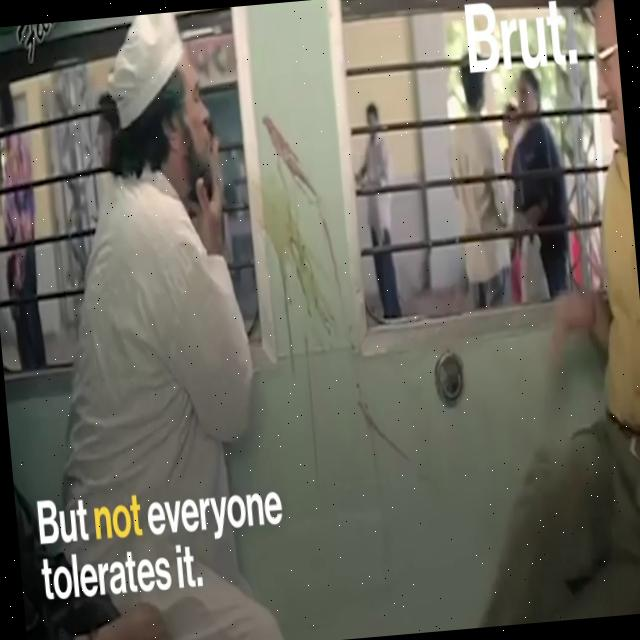spit: (106, 18, 312, 249)
